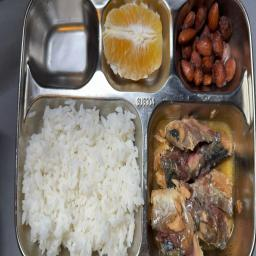100_fish: (149, 104, 244, 252)
100_nuts: (175, 6, 238, 85)
100_orange: (99, 5, 167, 86)
100_rice: (24, 100, 138, 255)
empty: (32, 8, 93, 80)
